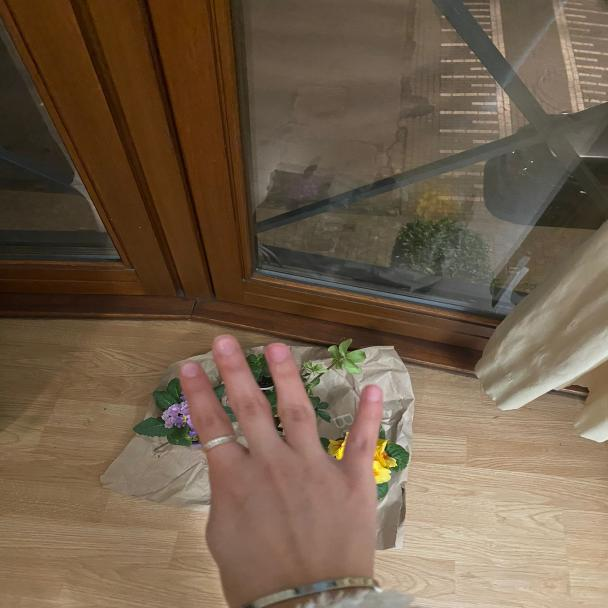four: (167, 333, 388, 599)
